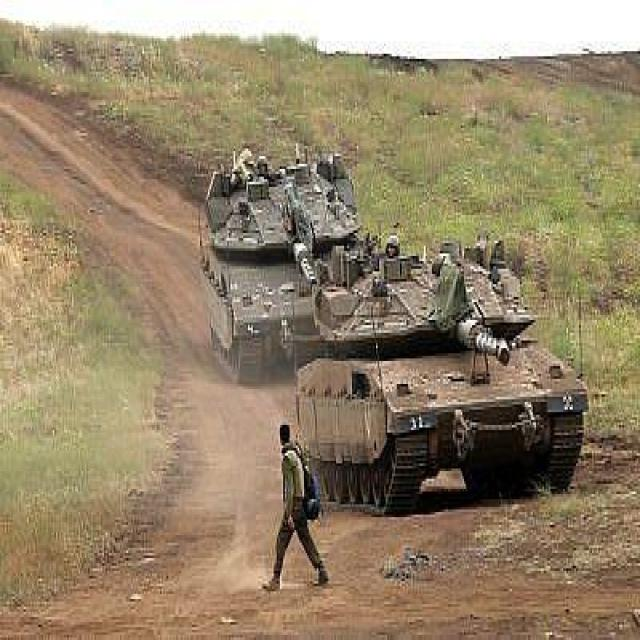Tanks: (316, 274, 594, 504), (193, 155, 353, 370)
